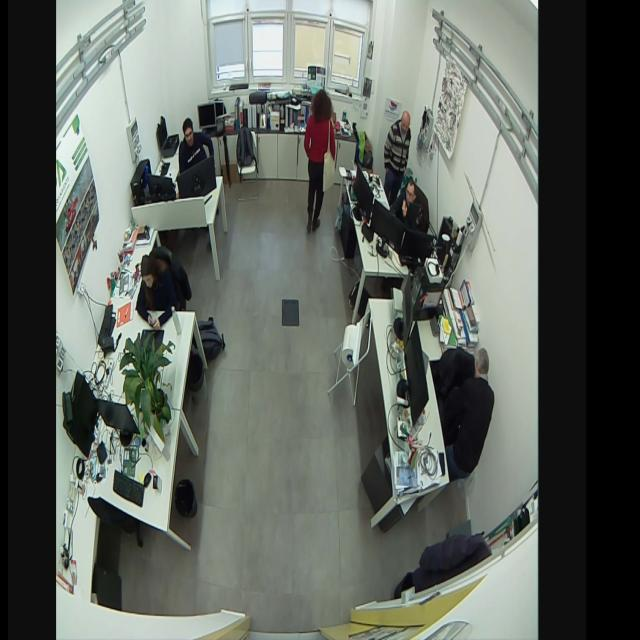Persona: (447, 344, 496, 479), (304, 86, 338, 236), (134, 248, 177, 332), (383, 108, 412, 193), (177, 114, 216, 172), (392, 178, 420, 224)
